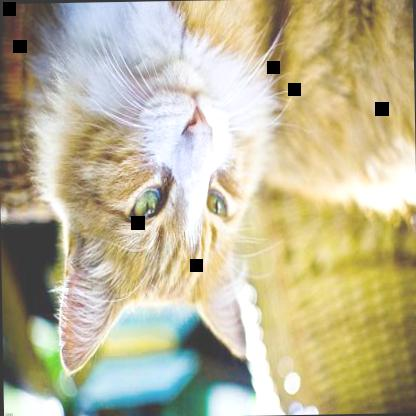cat: (27, 0, 415, 378)
